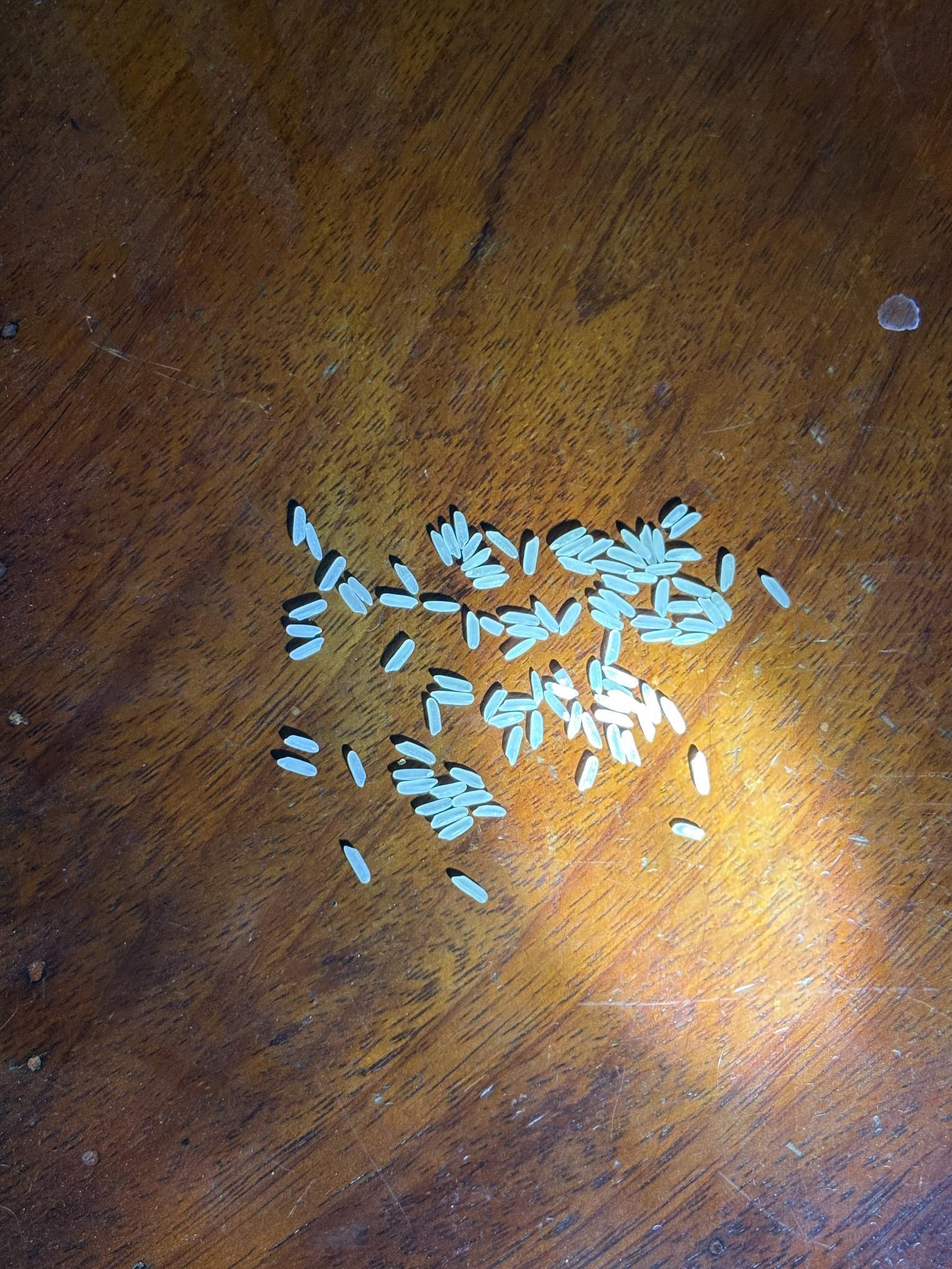Rice-th-y-nh: (621, 529, 651, 562), (452, 876, 488, 902), (661, 697, 686, 733), (345, 846, 370, 882), (386, 640, 415, 671), (320, 557, 346, 591), (602, 591, 636, 617), (396, 742, 435, 764), (762, 576, 790, 606), (669, 513, 701, 539), (579, 538, 614, 561), (439, 817, 474, 840), (534, 601, 559, 633), (486, 531, 518, 556), (339, 584, 365, 614), (431, 807, 468, 828), (608, 547, 645, 568), (394, 563, 419, 594), (642, 684, 662, 722), (581, 713, 602, 749), (550, 527, 586, 548), (290, 638, 324, 660), (603, 666, 637, 688), (278, 757, 317, 776), (607, 724, 626, 763), (602, 575, 639, 595), (692, 753, 710, 794), (557, 536, 592, 557), (699, 598, 724, 627), (673, 578, 711, 597), (505, 638, 536, 661), (483, 690, 506, 721), (461, 549, 492, 572), (559, 603, 581, 635), (636, 705, 655, 742), (544, 690, 568, 719), (431, 532, 452, 565), (290, 600, 326, 619), (505, 727, 523, 765), (579, 757, 599, 791), (621, 731, 641, 765), (677, 617, 717, 634), (508, 624, 548, 641), (661, 504, 688, 529), (347, 751, 366, 786), (451, 768, 484, 788), (396, 779, 437, 795), (589, 597, 620, 618), (348, 577, 372, 604), (559, 557, 595, 575), (594, 695, 630, 713), (453, 790, 491, 807), (441, 524, 460, 557), (595, 710, 634, 726), (591, 611, 623, 630), (435, 676, 473, 692), (431, 691, 474, 705), (641, 628, 681, 643), (631, 615, 671, 630), (306, 523, 322, 560), (380, 593, 417, 609), (567, 701, 583, 738), (523, 537, 539, 574), (500, 611, 539, 626), (285, 735, 319, 752), (416, 799, 452, 815), (712, 592, 732, 620), (593, 560, 630, 575), (654, 579, 669, 616), (427, 698, 442, 735), (720, 554, 735, 591), (608, 691, 633, 713), (672, 823, 704, 840), (545, 682, 577, 699), (605, 631, 621, 665), (490, 712, 524, 728), (473, 574, 509, 589), (466, 564, 504, 578), (454, 512, 469, 547), (462, 534, 482, 560), (292, 507, 306, 544), (529, 711, 543, 748), (432, 782, 466, 797), (672, 633, 711, 646), (588, 660, 603, 693), (500, 698, 535, 712), (646, 562, 682, 575), (530, 671, 544, 704), (652, 530, 666, 563), (666, 548, 701, 561), (287, 625, 322, 638), (466, 613, 479, 648), (394, 769, 434, 780), (602, 679, 633, 693), (480, 617, 504, 635), (668, 601, 702, 613), (554, 668, 574, 688), (424, 601, 460, 612), (640, 525, 652, 558), (473, 805, 505, 817), (628, 572, 658, 583)
